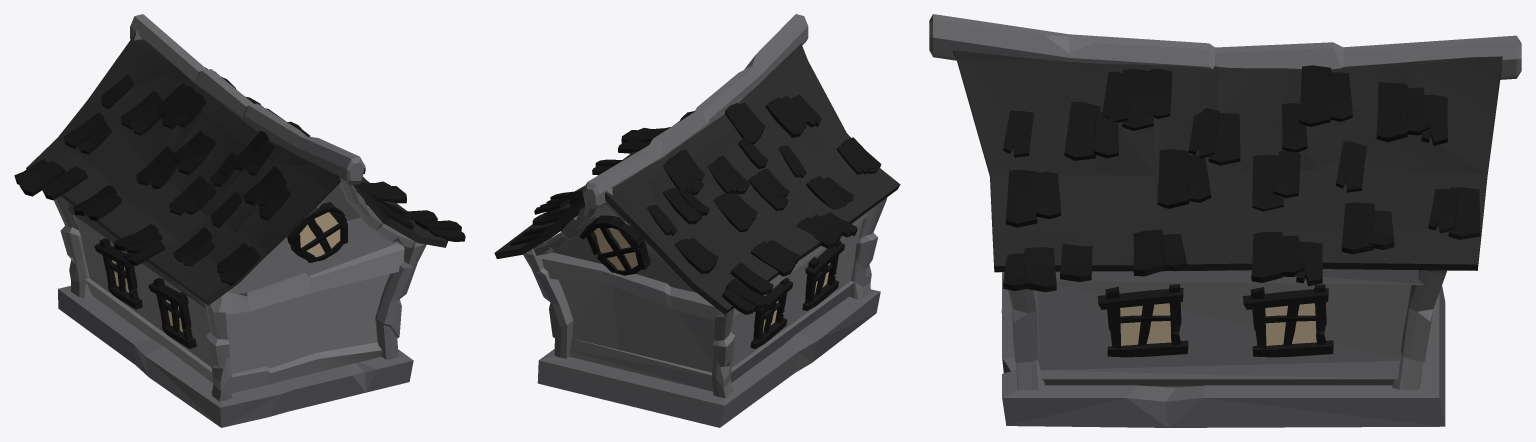
File: WF_LP_HT_Build_HouseRoom.001.fbx
3 renders of one model, left to right at view 1: azimuth 30°, elevation 25°; view 2: azimuth 150°, elevation 25°; view 3: azimuth 270°, elevation 25°, orthographic. The views are drawn at different scales.
Parts seen in each view (by area): view 1: WF_LP_HT_Build_HouseRoom.001; view 2: WF_LP_HT_Build_HouseRoom.001; view 3: WF_LP_HT_Build_HouseRoom.001.
Boxes of the visible parts, left/top/right/bottom form: WF_LP_HT_Build_HouseRoom.001: left=14, top=14, right=465, bottom=427; WF_LP_HT_Build_HouseRoom.001: left=494, top=14, right=900, bottom=427; WF_LP_HT_Build_HouseRoom.001: left=929, top=14, right=1521, bottom=427.
Size of the model in its own units: 5.79 by 5 by 7.55.
